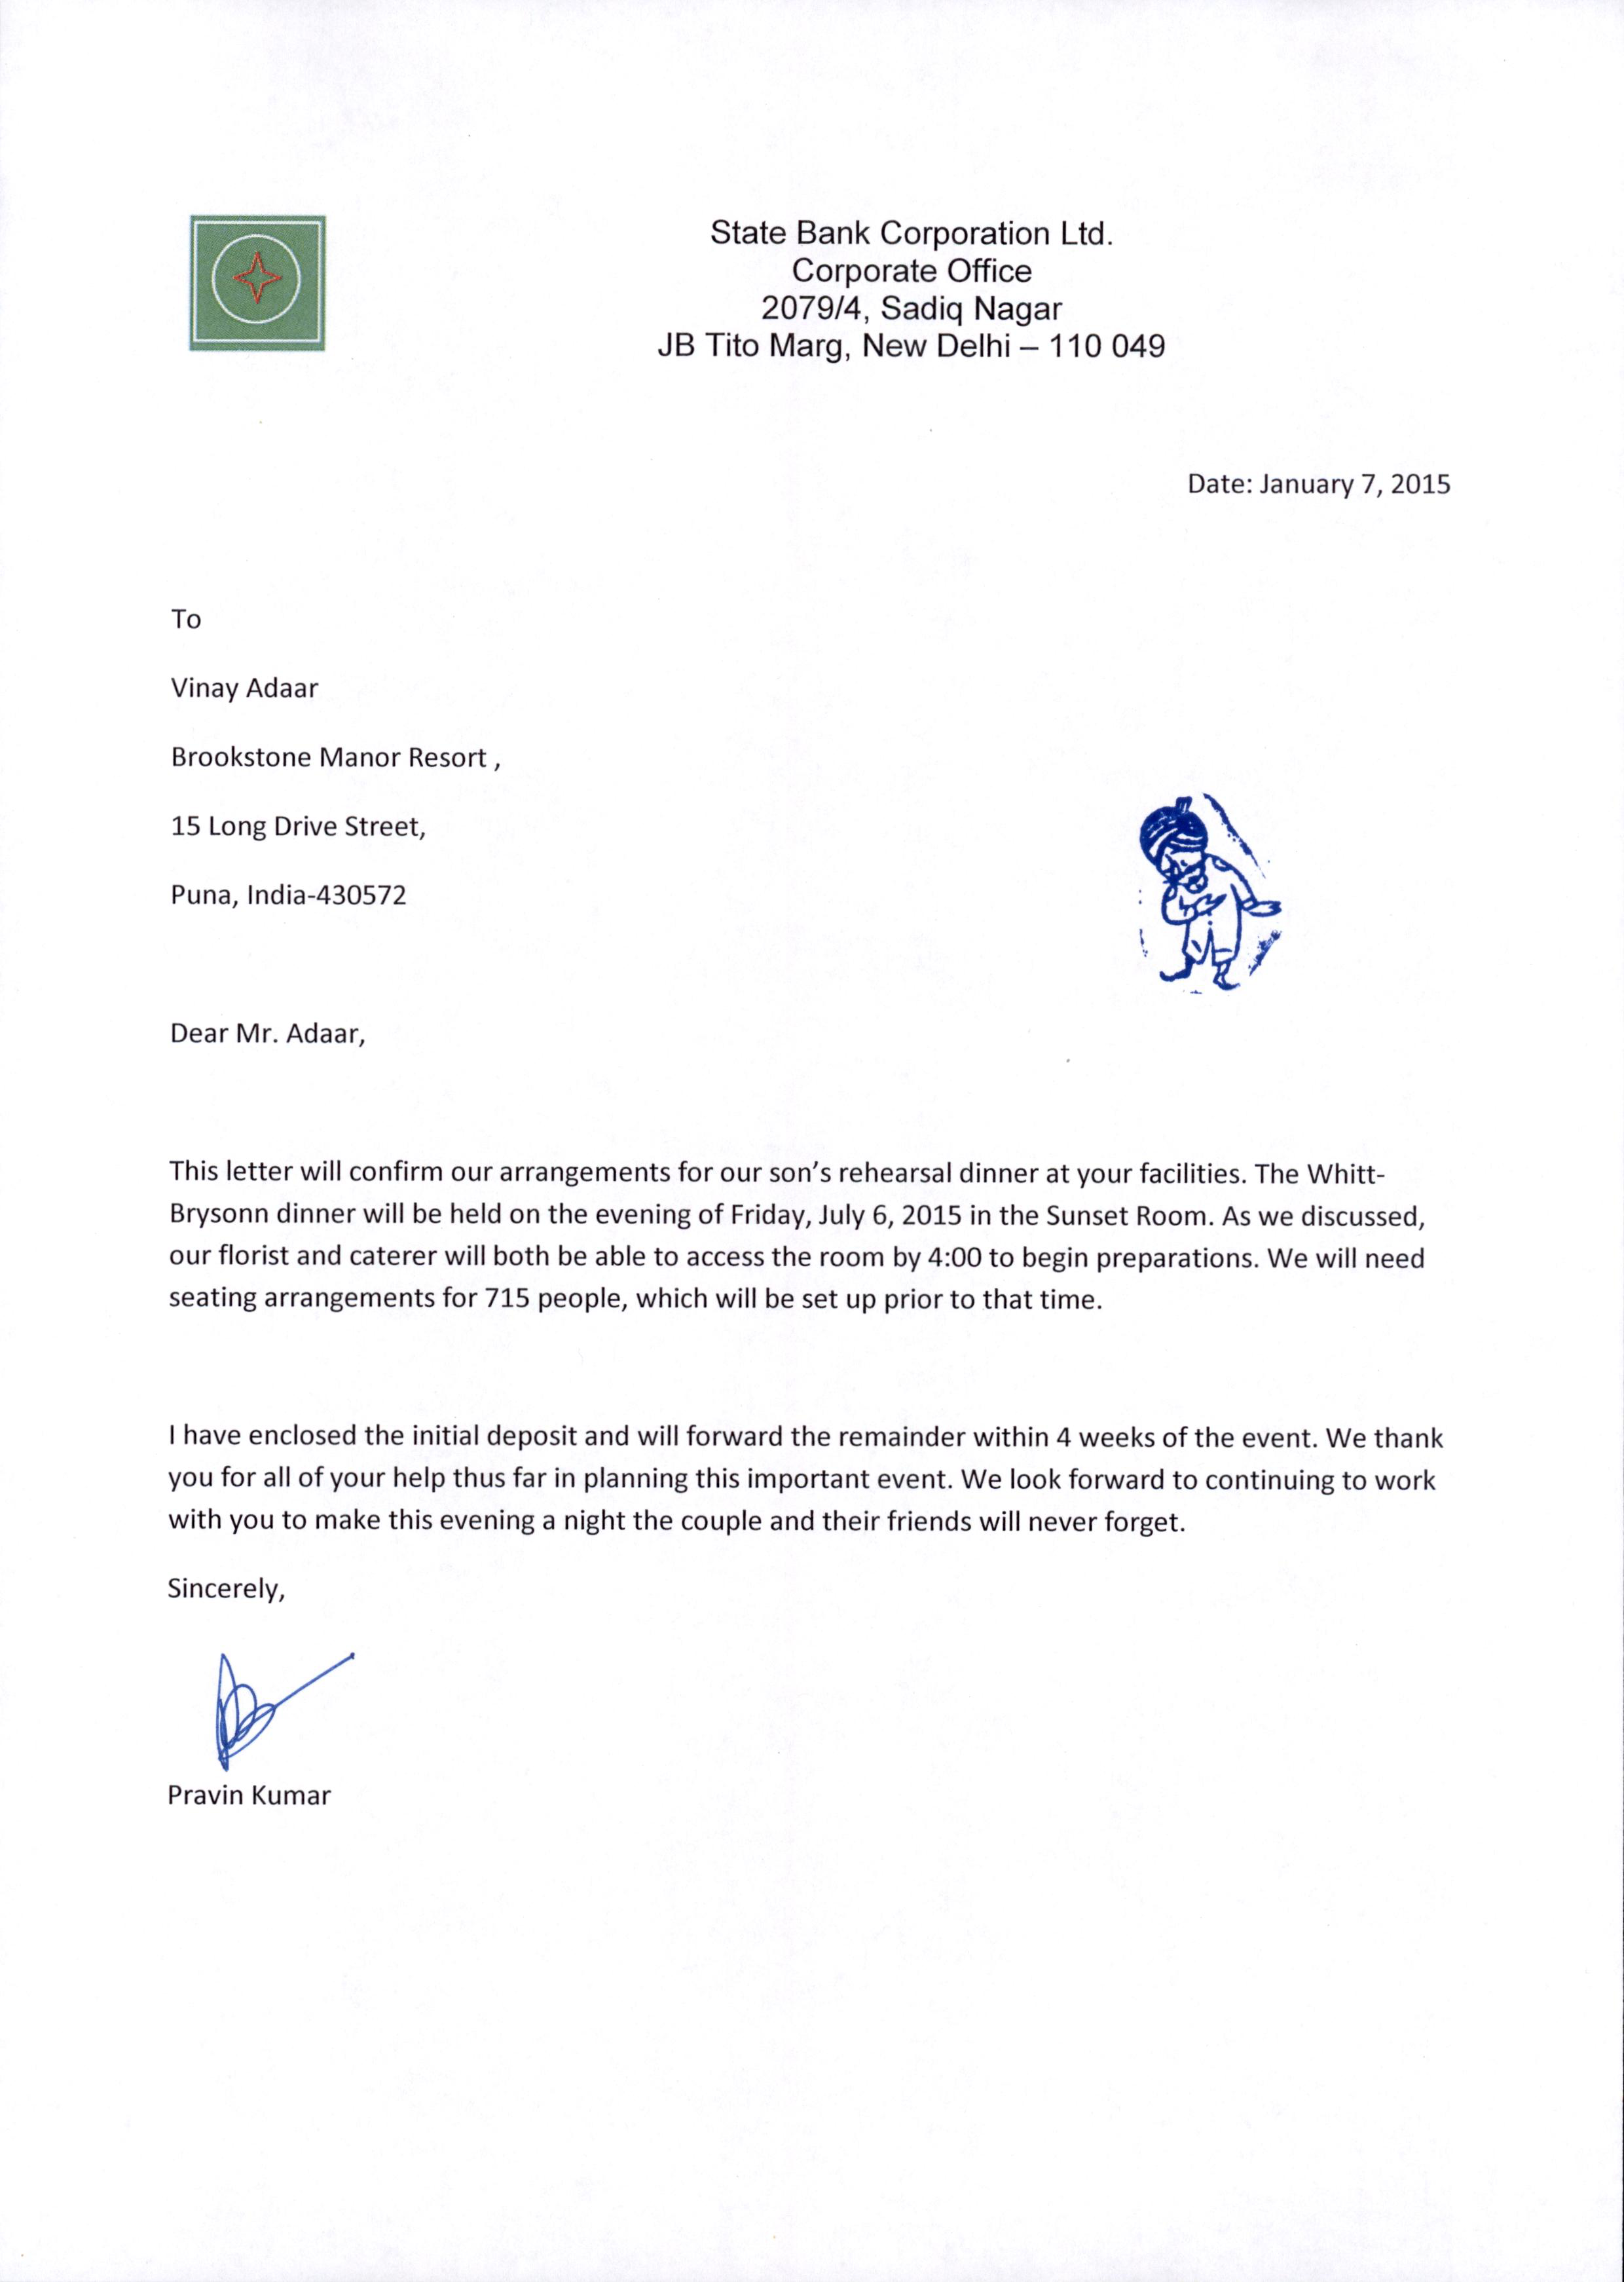Signature: (202, 1639, 360, 1777)
